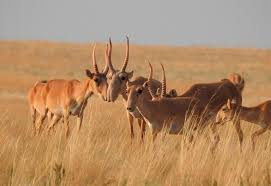saiga: (26, 44, 113, 145), (123, 80, 216, 157), (105, 33, 166, 143), (215, 97, 271, 161)
